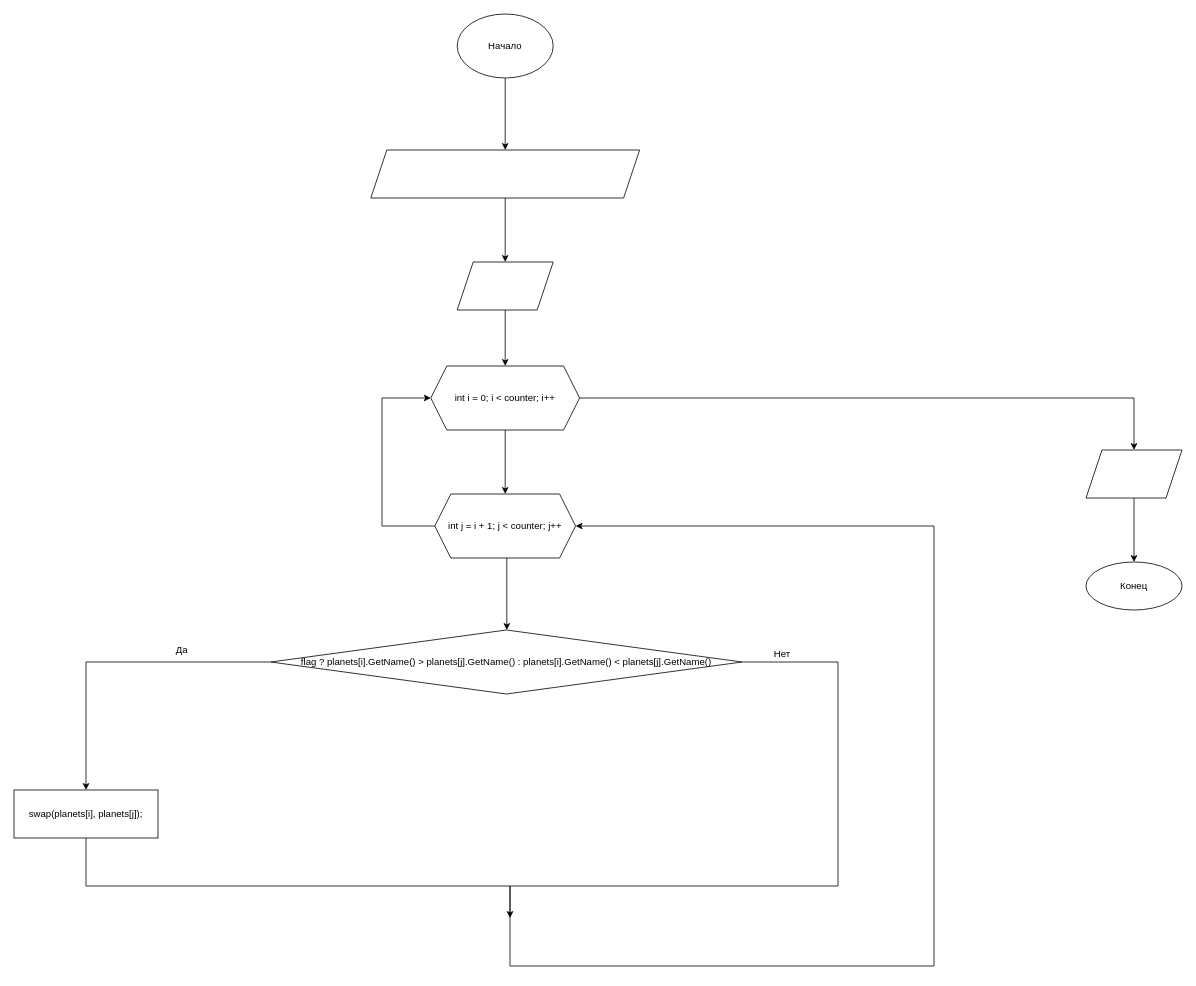
Image size: 1196x986. Some labels were removed from this diagram. The box of each missing label's shape, as (x1, y1, x2, y2) in pixels:
cin >> flag;: (456, 261, 553, 310)
cout << "Сортировать по возрастанию? ";: (370, 149, 640, 198)
PrintPlanets();: (1085, 449, 1182, 498)
